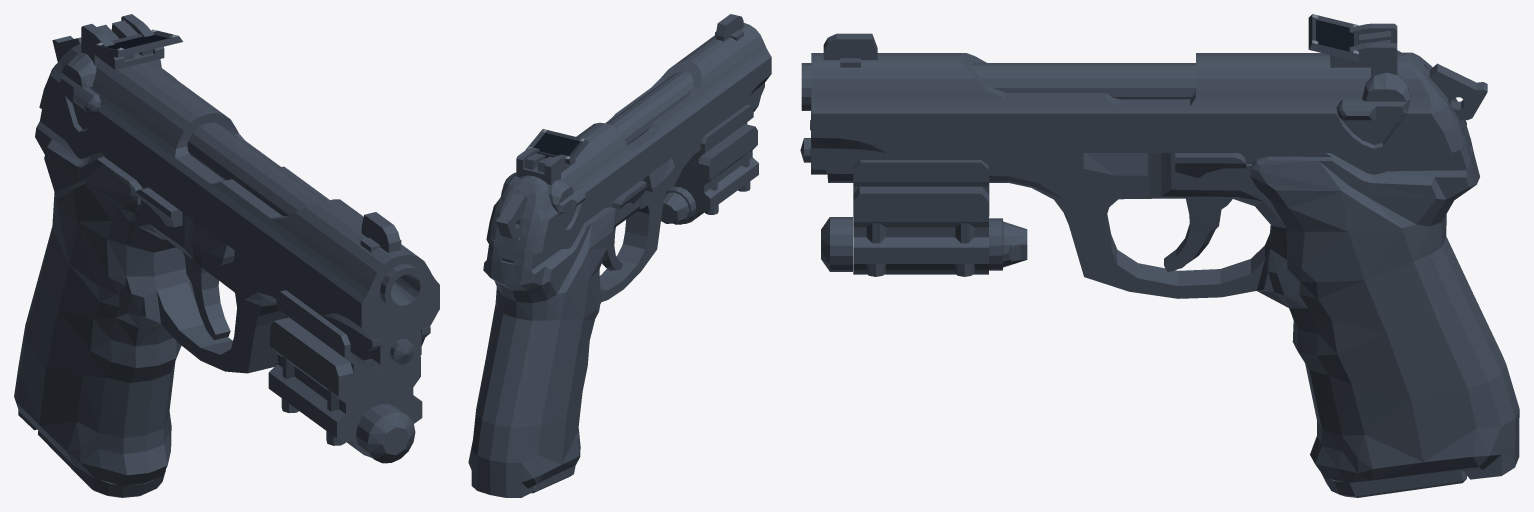
File: centurion_diegetic.obj
The picture shows the model from 3 angles, left to right: view 1: azimuth 30°, elevation 25°; view 2: azimuth 150°, elevation 25°; view 3: azimuth 270°, elevation 25°; orthographic projection. The views are drawn at different scales.
Parts seen in each view (by area): view 1: centurion_Diegetic; view 2: centurion_Diegetic; view 3: centurion_Diegetic.
Boxes of the visible parts, bbox=[...] form: centurion_Diegetic: bbox=[14, 14, 439, 497]; centurion_Diegetic: bbox=[468, 14, 771, 497]; centurion_Diegetic: bbox=[800, 14, 1519, 497].
Bounding box in the file's own units: 4.19 × 17.44 × 24.78.
